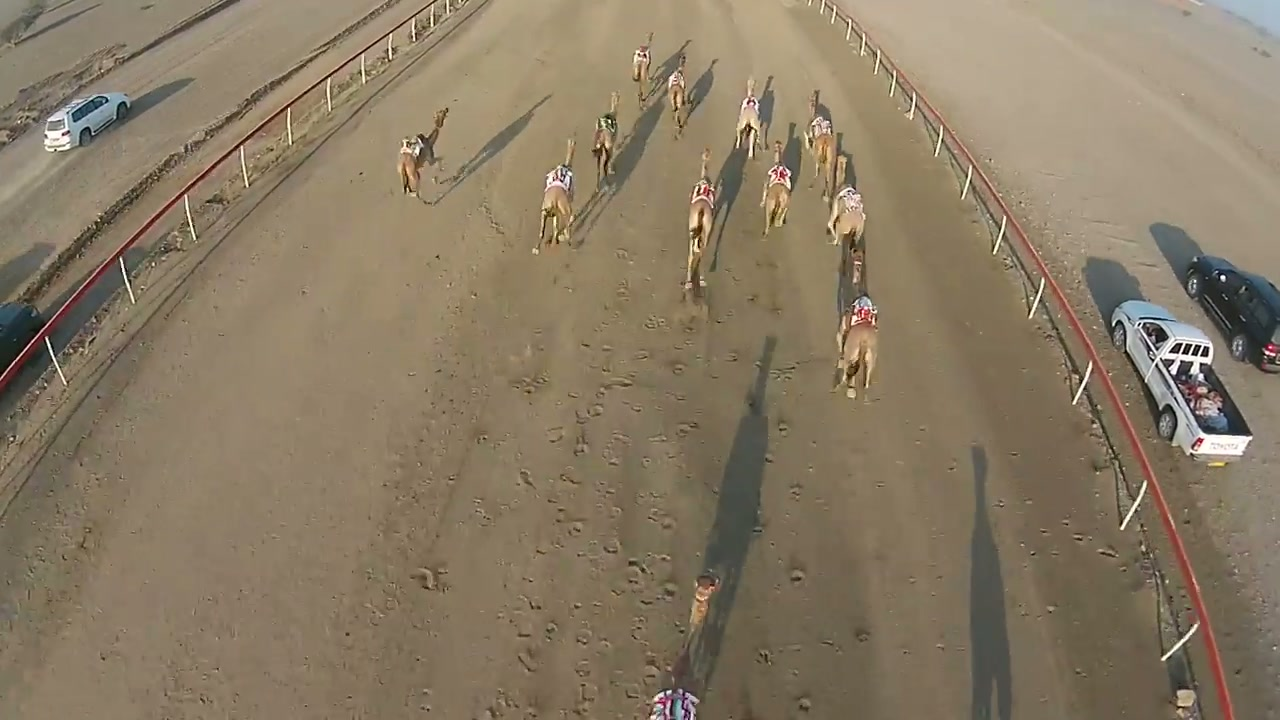animal_footprint: (431, 291, 884, 717)
